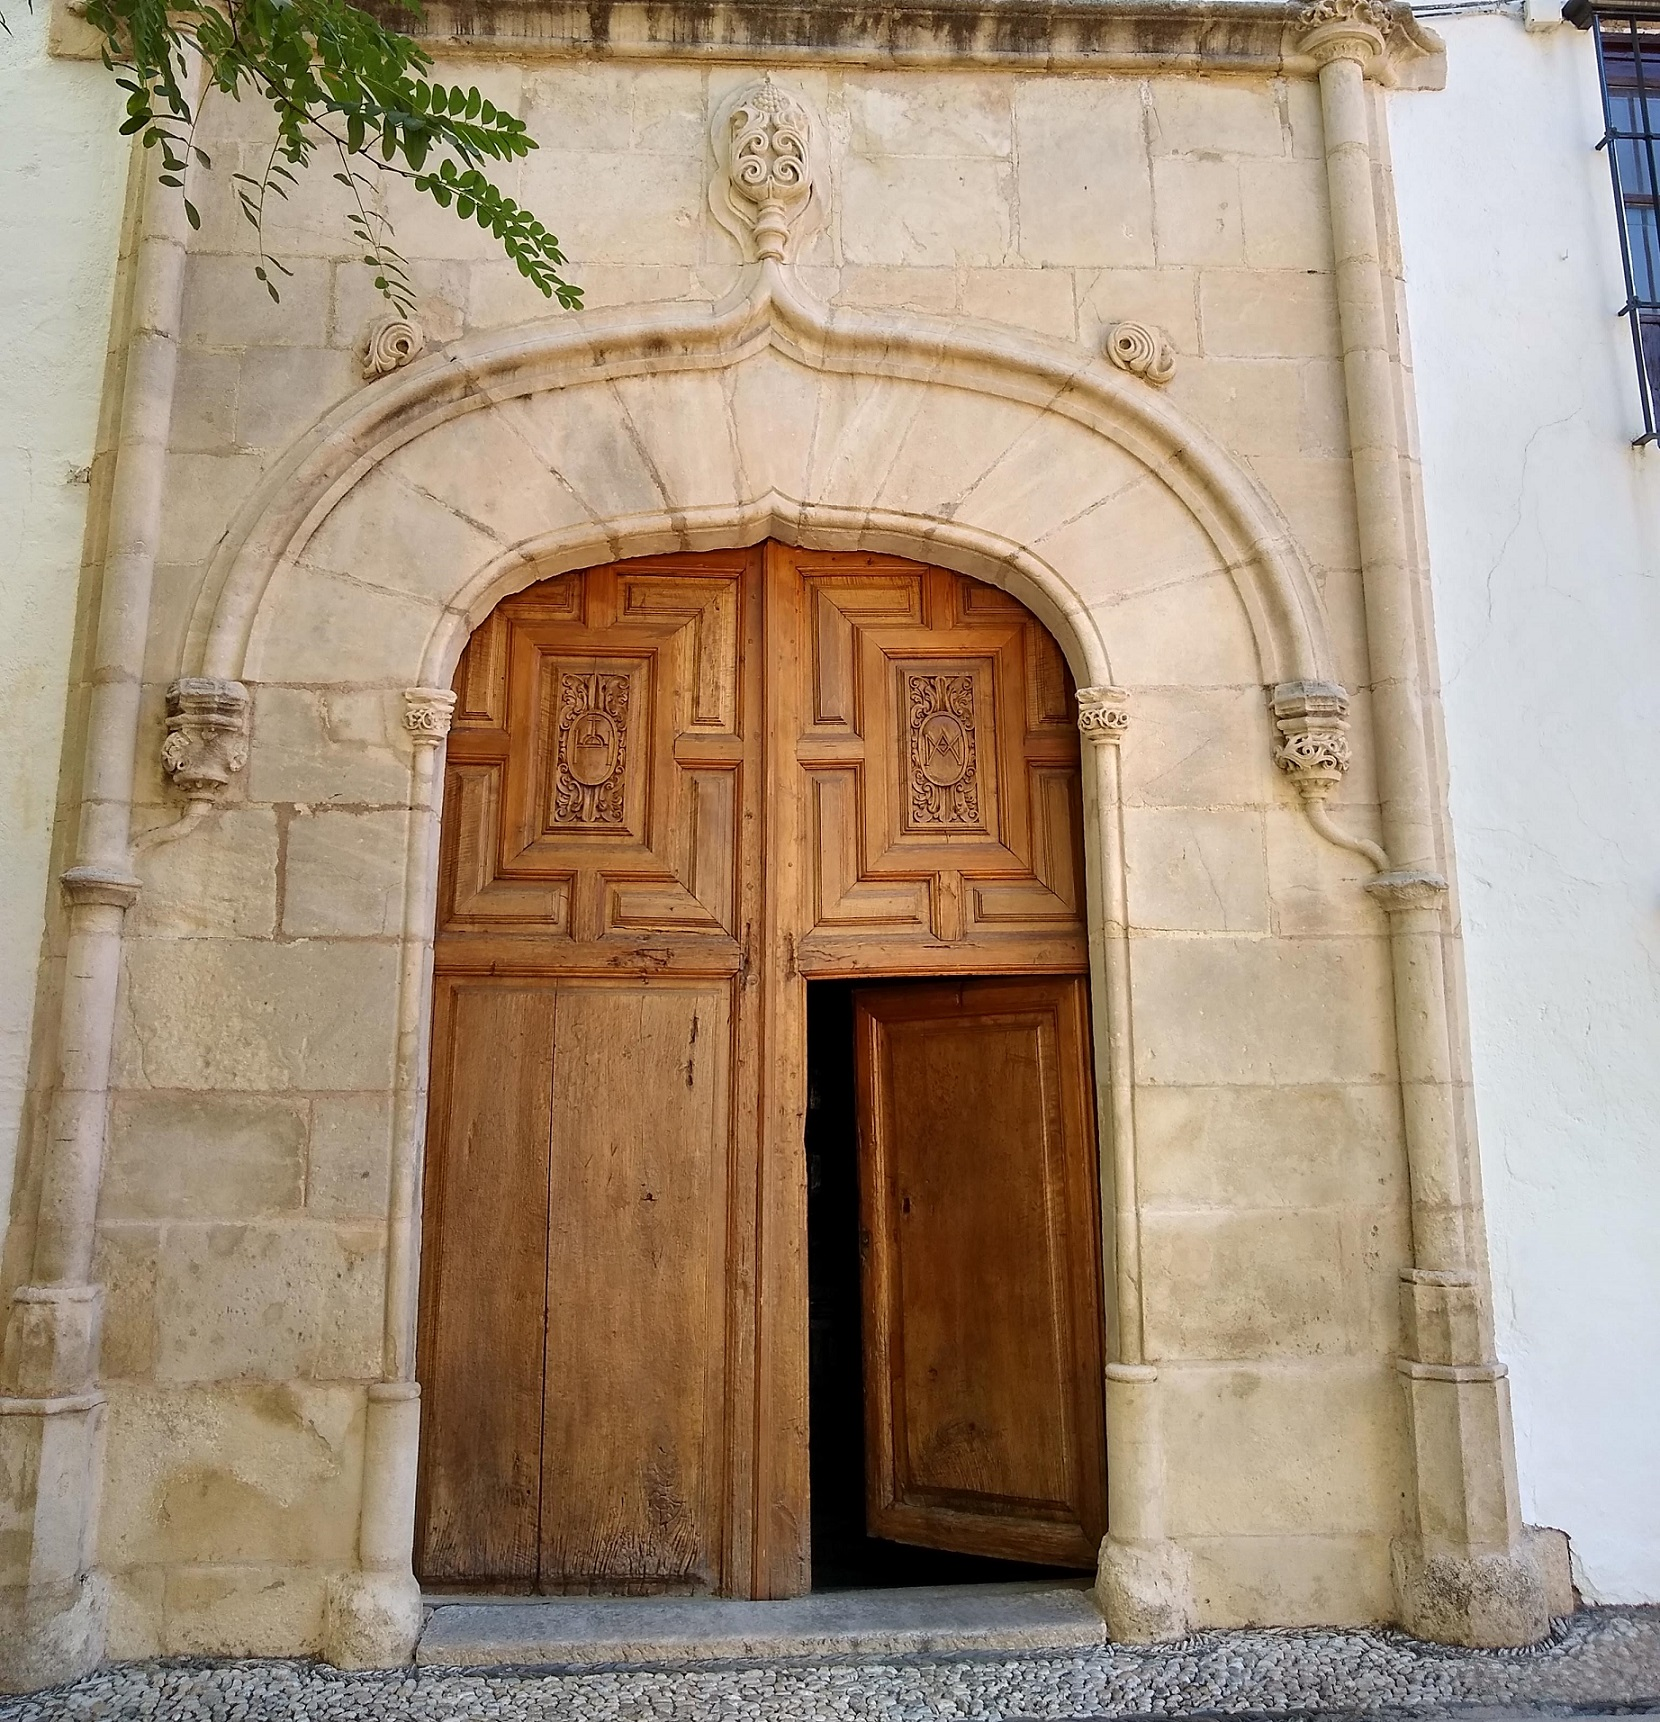arco-conopial: (271, 251, 1268, 480), (467, 478, 1045, 580)
